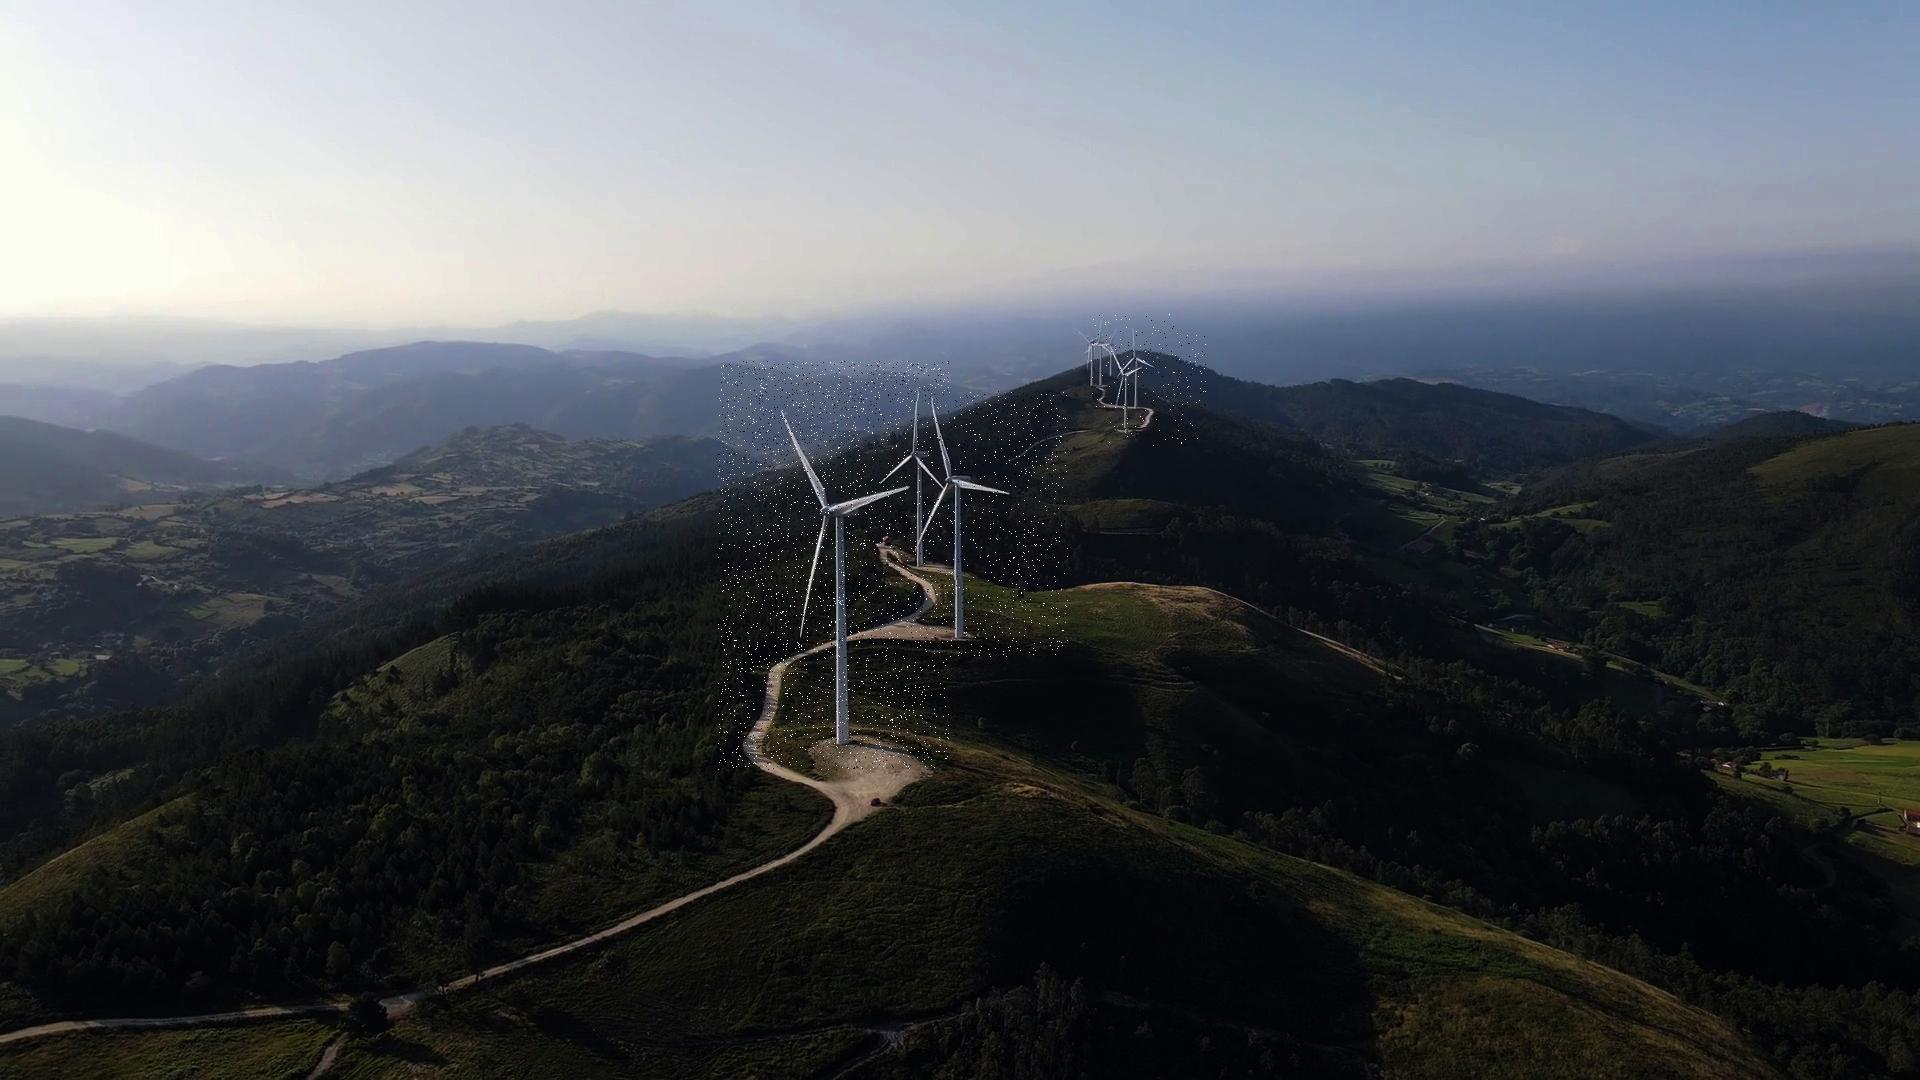turbine: (717, 361, 948, 770), (864, 392, 1067, 657), (870, 401, 989, 580), (1101, 340, 1197, 447), (1116, 334, 1205, 429), (1091, 319, 1163, 427), (1096, 314, 1179, 389)
